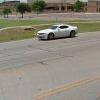Car: (36, 20, 84, 43)
